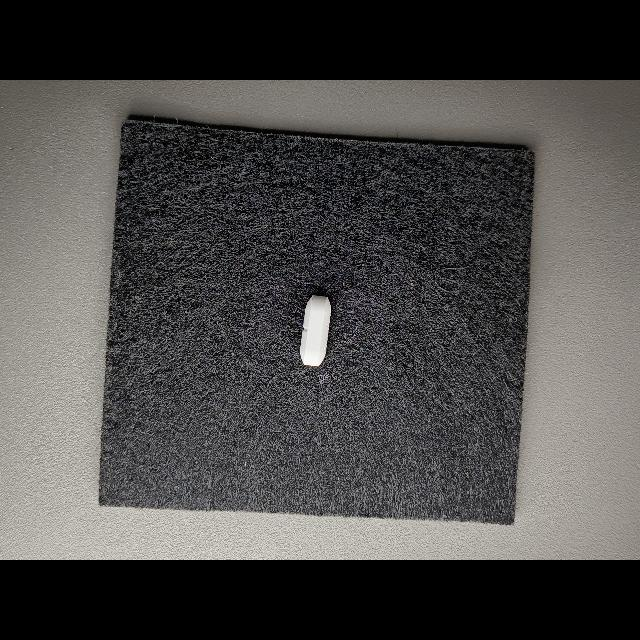Intact Pill: (300, 295, 331, 367)
